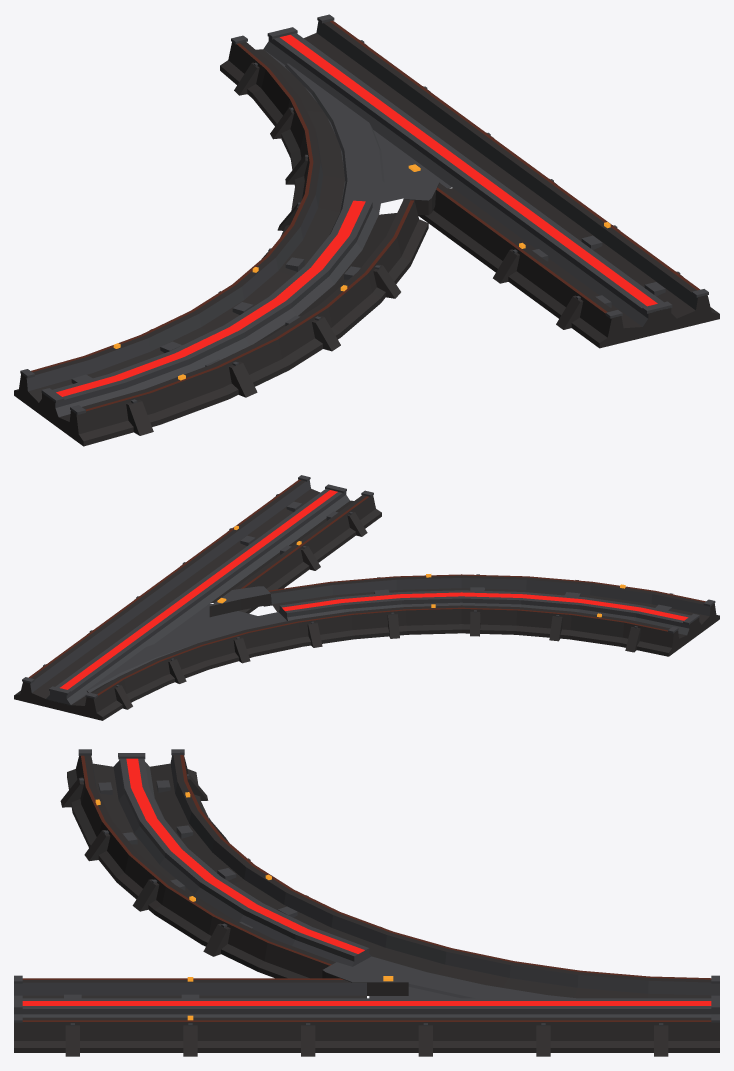
File: maglev_track_fork_right.glb
3 views of the same model, one above another, from view 1: azimuth 30°, elevation 25°; view 2: azimuth 150°, elevation 25°; view 3: azimuth 270°, elevation 25° (orthographic). The views are drawn at different scales.
Visible parts, largest first — view 1: track_fork_right, track_fork_right_blade_straight; view 2: track_fork_right, track_fork_right_blade_straight; view 3: track_fork_right, track_fork_right_blade_straight.
Part boxes in pixels (bbox=[...]): track_fork_right: bbox=[14, 14, 719, 446]; track_fork_right_blade_straight: bbox=[289, 47, 480, 184]; track_fork_right: bbox=[14, 475, 719, 720]; track_fork_right_blade_straight: bbox=[68, 588, 208, 689]; track_fork_right: bbox=[14, 749, 719, 1056]; track_fork_right_blade_straight: bbox=[367, 998, 675, 1017].
Size of the model in its own units: 22.5 by 1.06 by 24.
